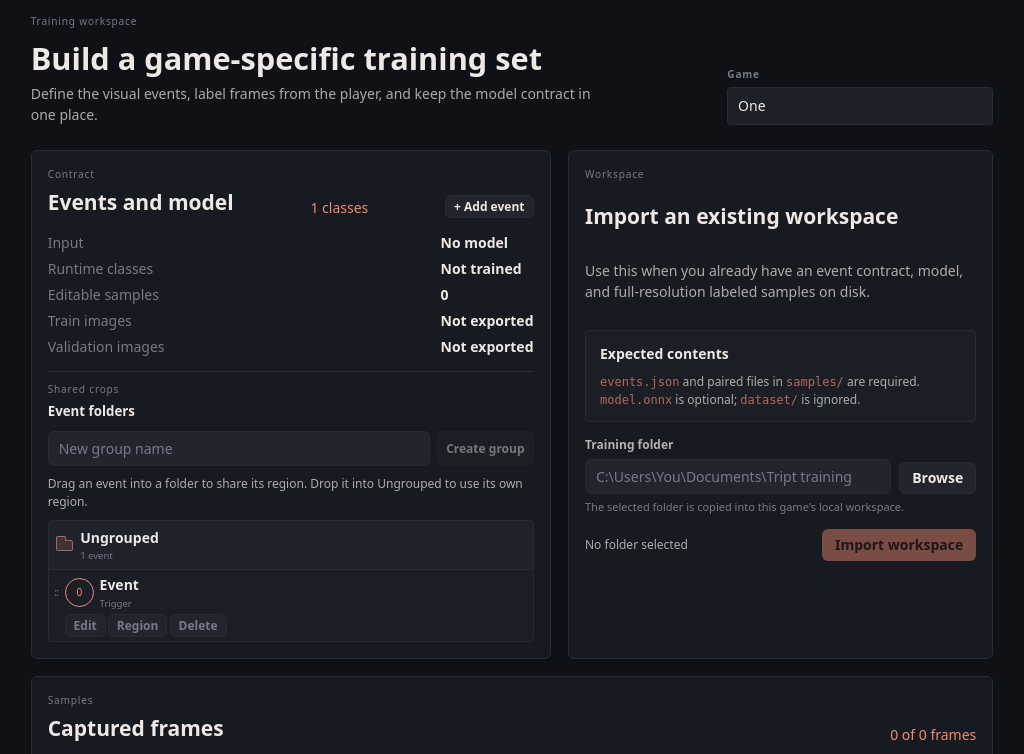
it: TrainingView training preferences › falls back to the defaults when switching to a game without saved preferences
Select "Two" in the dropdown labelled "Game" at point(860, 106), box [727, 87, 993, 125]
(page scrolled)
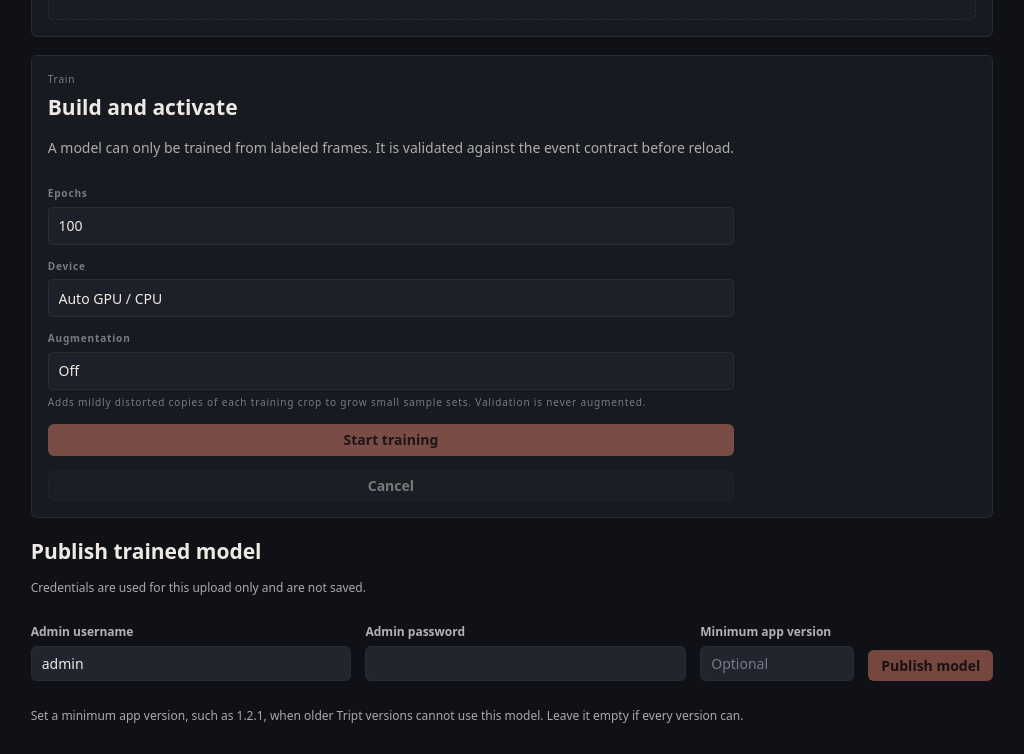
Now the number field labelled "Epochs" holds "100", box [48, 207, 734, 245]
Now the dropdown labelled "Device" shows "Auto GPU / CPU", box [48, 279, 734, 318]
Now the dropdown labelled "Augmentation" shows "Off", box [48, 352, 734, 390]
